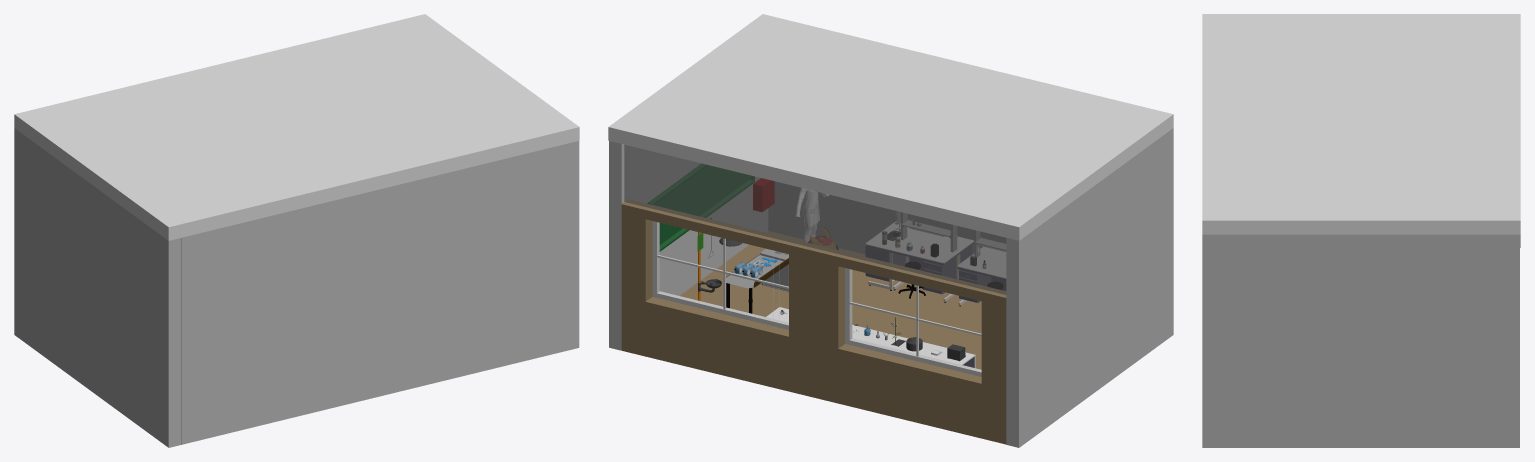
The model's file is apparatus-room.glb.
3 views of the same model, side by side, from view 1: azimuth 30°, elevation 25°; view 2: azimuth 150°, elevation 25°; view 3: azimuth 270°, elevation 25° (orthographic). The views are drawn at different scales.
Size of what is drawn, in the model's own units: 0.6227 by 0.3197 by 0.4054.
70 materials, 4 textured.
